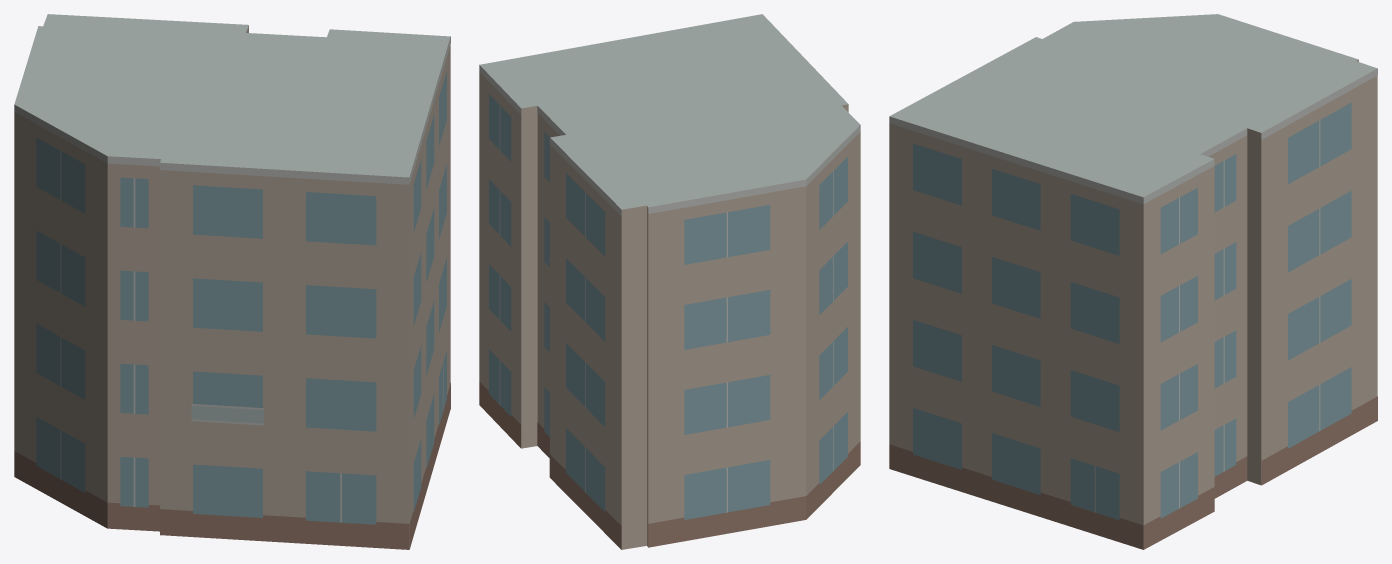
File: survey-upis-33011760.glb
3 renders of one model, left to right at view 1: azimuth 30°, elevation 25°; view 2: azimuth 150°, elevation 25°; view 3: azimuth 270°, elevation 25°, orthographic. The views are drawn at different scales.
Parts seen in each view (by area): view 1: survey-upis-33011760.tmp; view 2: survey-upis-33011760.tmp; view 3: survey-upis-33011760.tmp.
Part boxes in pixels (<box>): survey-upis-33011760.tmp: <box>14,14,450,549</box>; survey-upis-33011760.tmp: <box>479,14,860,549</box>; survey-upis-33011760.tmp: <box>889,14,1377,549</box>.
Bounding box in the file's own units: 13.85 × 12.4 × 15.58.
